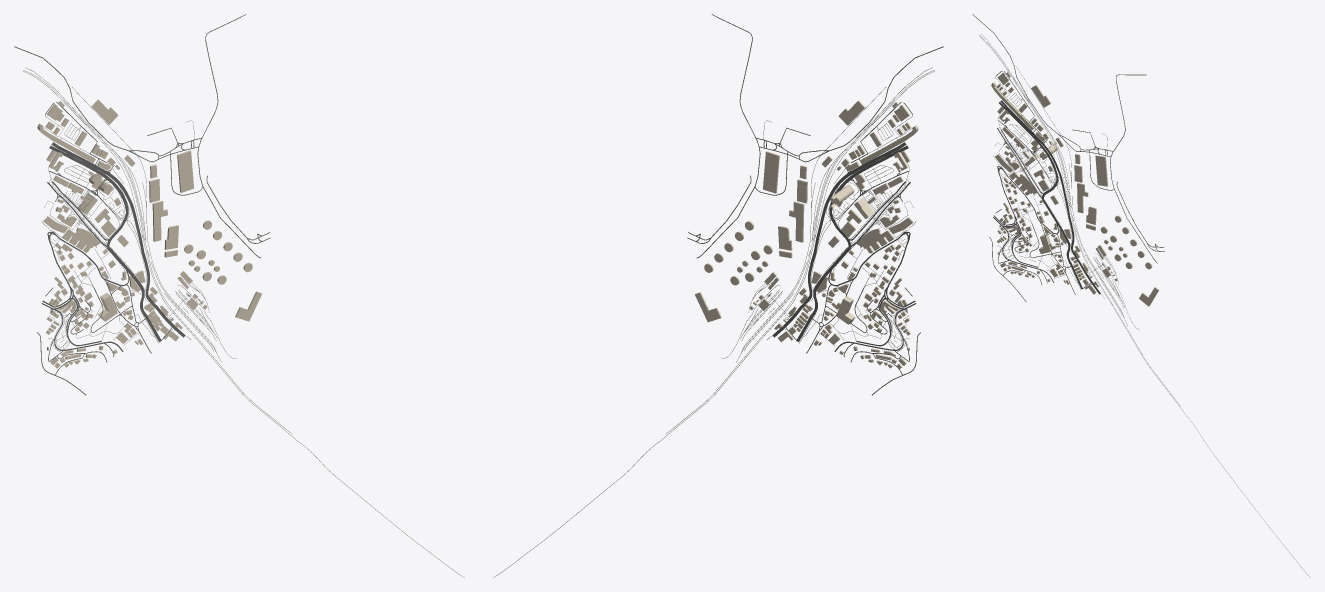
The model's file is historic-palestine-08_34_3500_3281.glb.
3 renders of one model, left to right at view 1: azimuth 30°, elevation 25°; view 2: azimuth 150°, elevation 25°; view 3: azimuth 330°, elevation 25°, orthographic. The views are drawn at different scales.
Visible parts, largest first — view 1: Road מסילת החוף.001, Building_.131; view 2: Road מסילת החוף.001, Building_.131; view 3: no part large enough to name.
Boxes of the visible parts, left/top/right/bottom form: Road מסילת החוף.001: left=23, top=71, right=464, bottom=577; Building_.131: left=177, top=150, right=193, bottom=192; Road מסילת החוף.001: left=493, top=71, right=934, bottom=577; Building_.131: left=763, top=151, right=779, bottom=193.
Size of the model in its own units: 1976 by 2688 by 139.
